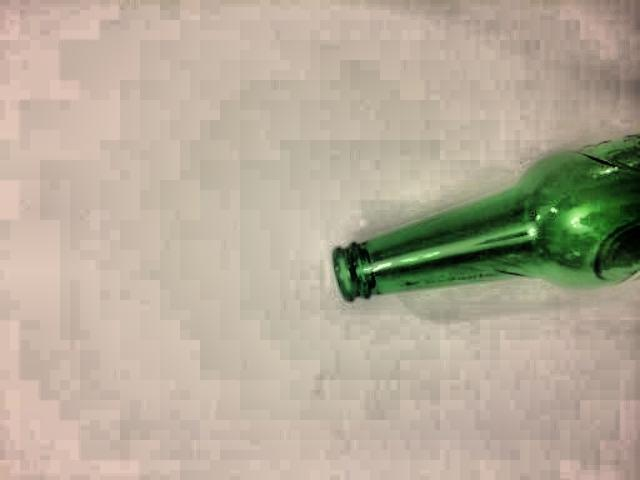Bottles: (312, 126, 640, 338)
